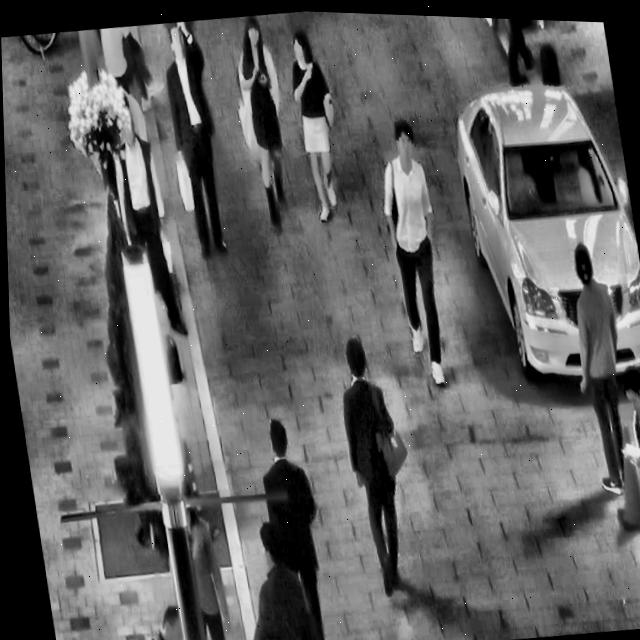light_vehicle: (438, 49, 640, 397)
